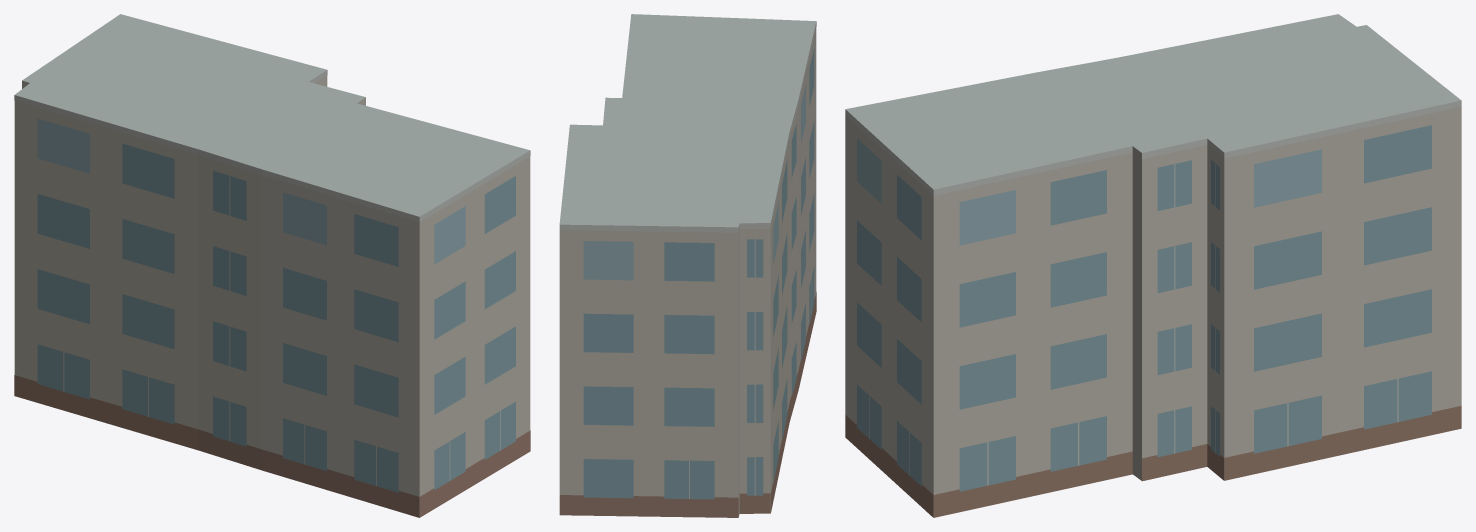
Rendered from survey-upis-32639721.glb.
The picture shows the model from 3 angles, left to right: view 1: azimuth 30°, elevation 25°; view 2: azimuth 150°, elevation 25°; view 3: azimuth 270°, elevation 25°; orthographic projection. The views are drawn at different scales.
Visible parts, largest first — view 1: survey-upis-32639721.tmp; view 2: survey-upis-32639721.tmp; view 3: survey-upis-32639721.tmp.
Boxes of the visible parts, left/top/right/bottom form: survey-upis-32639721.tmp: left=14, top=14, right=530, bottom=517; survey-upis-32639721.tmp: left=559, top=14, right=816, bottom=517; survey-upis-32639721.tmp: left=845, top=14, right=1461, bottom=517.
Size of the model in its own units: 14.88 by 12.95 by 22.05.
